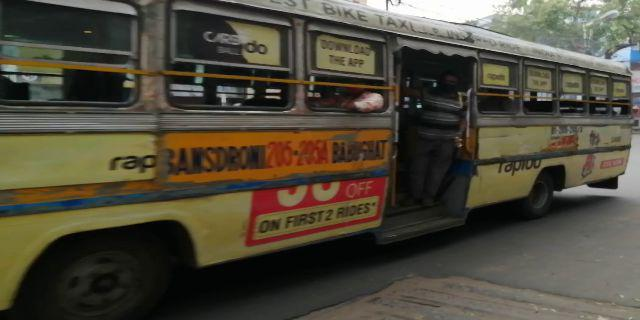Bus: (1, 4, 636, 276)
